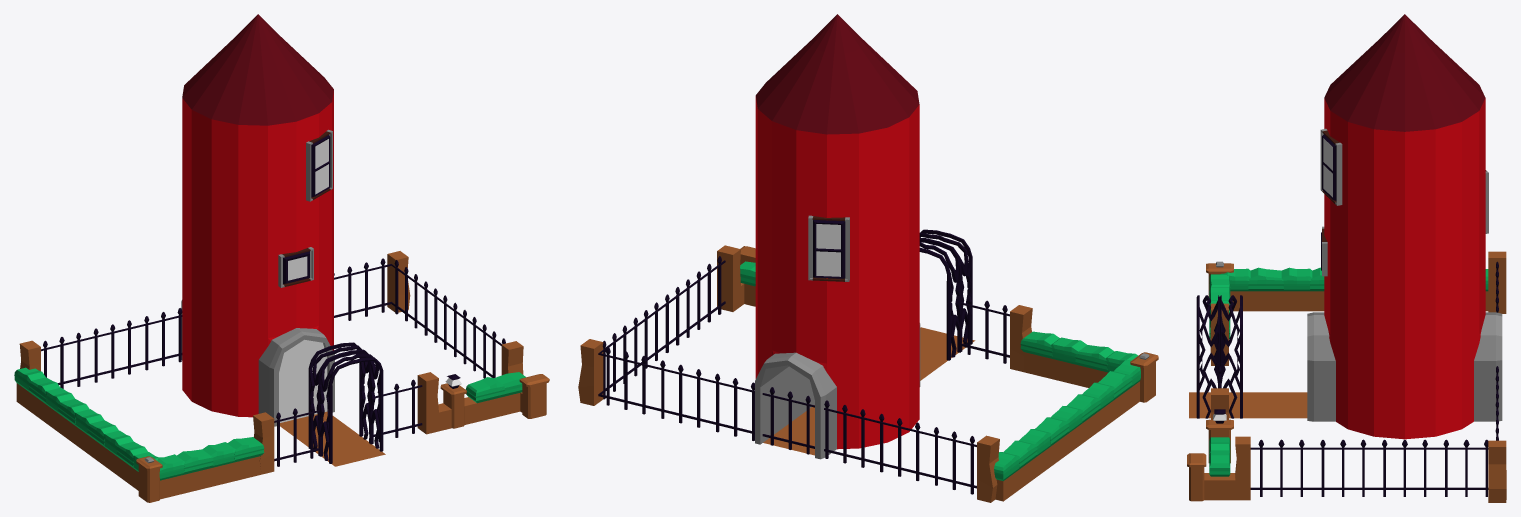
The model's file is Modular Assets Example Building.fbx.
3 renders of one model, left to right at view 1: azimuth 30°, elevation 25°; view 2: azimuth 150°, elevation 25°; view 3: azimuth 270°, elevation 25°, orthographic. The views are drawn at different scales.
Parts seen in each view (by area): view 1: Large Curved Wall.023, Large Curved Wall.015, Large Curved Wall.007, Large Curved Wall.031, Large Curved Wall.040, Large Curved Wall.048, Gate Door.001, Large Curved Wall.056, Large Curved Wall.013, Tunnel Entrance Piece.001, Large Curved Wall.037, Large Curved Wall.029 (+50 smaller); view 2: Large Curved Wall.009, Large Curved Wall.033, Large Curved Wall.046, Tunnel Entrance Piece.002, Large Curved Wall.038, Large Curved Wall.052, Large Curved Wall.014, Large Curved Wall.025, Large Curved Wall.017, Large Curved Wall.030, Large Curved Wall.003, Large Curved Wall.022 (+48 smaller); view 3: Large Curved Wall.035, Large Curved Wall.027, Large Curved Wall.019, Large Curved Wall.011, Large Curved Wall.005, Large Curved Wall.050, Tunnel Entrance Piece.001, Tunnel Entrance Piece.002, Large Curved Wall.042, Large Curved Wall.044, Large Curved Wall.010, Large Curved Wall.034 (+43 smaller).
Boxes of the visible parts, left/top/right/bottom form: Large Curved Wall.023: left=211, top=172, right=267, bottom=231; Large Curved Wall.015: left=211, top=225, right=267, bottom=284; Large Curved Wall.007: left=211, top=278, right=267, bottom=337; Large Curved Wall.031: left=211, top=119, right=267, bottom=178; Large Curved Wall.040: left=212, top=49, right=267, bottom=125; Large Curved Wall.048: left=261, top=47, right=318, bottom=125; Gate Door.001: left=279, top=339, right=327, bottom=422; Large Curved Wall.056: left=211, top=358, right=258, bottom=417; Large Curved Wall.013: left=268, top=272, right=318, bottom=337; Tunnel Entrance Piece.001: left=258, top=328, right=334, bottom=426; Large Curved Wall.037: left=268, top=113, right=318, bottom=178; Large Curved Wall.029: left=268, top=171, right=318, bottom=231; Large Curved Wall.009: left=827, top=299, right=887, bottom=363; Large Curved Wall.033: left=827, top=127, right=887, bottom=191; Large Curved Wall.046: left=827, top=51, right=887, bottom=134; Tunnel Entrance Piece.002: left=755, top=352, right=836, bottom=459; Large Curved Wall.038: left=772, top=121, right=826, bottom=191; Large Curved Wall.052: left=772, top=49, right=833, bottom=134; Large Curved Wall.014: left=772, top=293, right=826, bottom=363; Large Curved Wall.025: left=827, top=185, right=887, bottom=248; Large Curved Wall.017: left=827, top=242, right=887, bottom=306; Large Curved Wall.030: left=772, top=178, right=826, bottom=246; Large Curved Wall.003: left=837, top=385, right=887, bottom=449; Large Curved Wall.022: left=772, top=236, right=826, bottom=306; Large Curved Wall.035: left=1374, top=129, right=1435, bottom=187; Large Curved Wall.027: left=1374, top=185, right=1435, bottom=243; Large Curved Wall.019: left=1374, top=241, right=1435, bottom=299; Large Curved Wall.011: left=1374, top=297, right=1435, bottom=355; Large Curved Wall.005: left=1374, top=381, right=1435, bottom=439; Large Curved Wall.050: left=1374, top=52, right=1435, bottom=131; Tunnel Entrance Piece.001: left=1307, top=312, right=1335, bottom=421; Tunnel Entrance Piece.002: left=1474, top=312, right=1502, bottom=421; Large Curved Wall.042: left=1330, top=46, right=1394, bottom=129; Large Curved Wall.044: left=1415, top=46, right=1478, bottom=128; Large Curved Wall.010: left=1435, top=279, right=1479, bottom=352; Large Curved Wall.034: left=1435, top=111, right=1479, bottom=184.
Bounding box in the file's own units: 1563 × 1400 × 1037.
